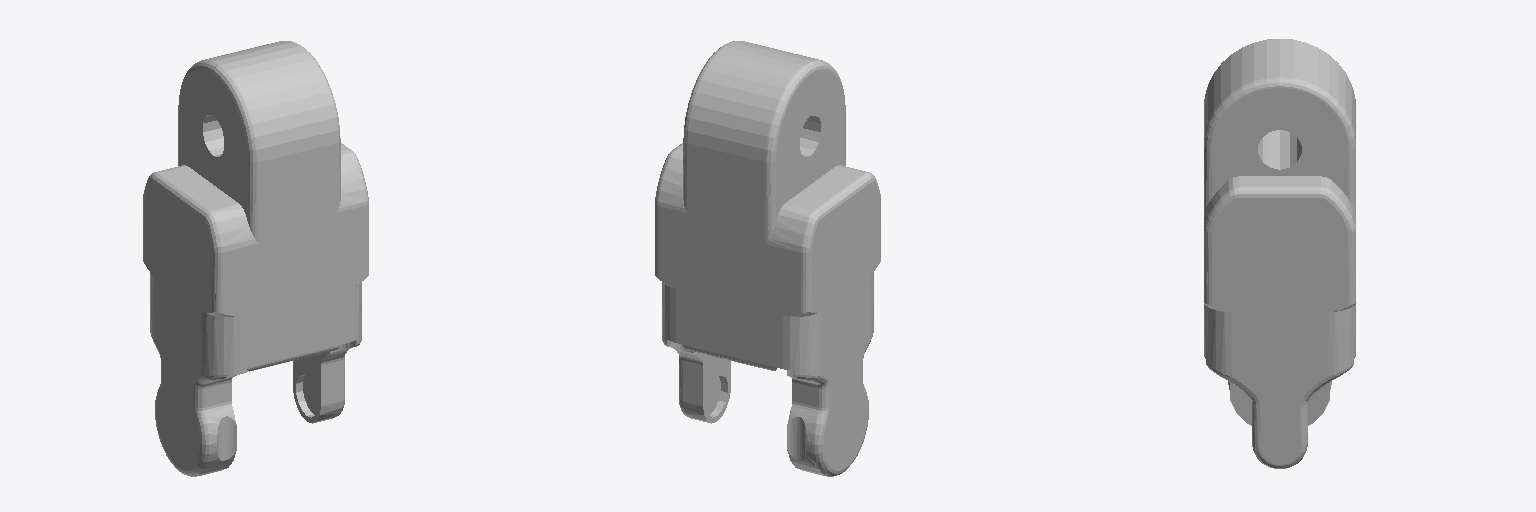
File: ll_dg_1_3_c_mesh_World_mesh.obj
The picture shows the model from 3 angles: view 1: azimuth 30°, elevation 25°; view 2: azimuth 150°, elevation 25°; view 3: azimuth 270°, elevation 25°; orthographic projection.
Bounding box in the file's own units: 0.0224 × 0.0548 × 0.019.